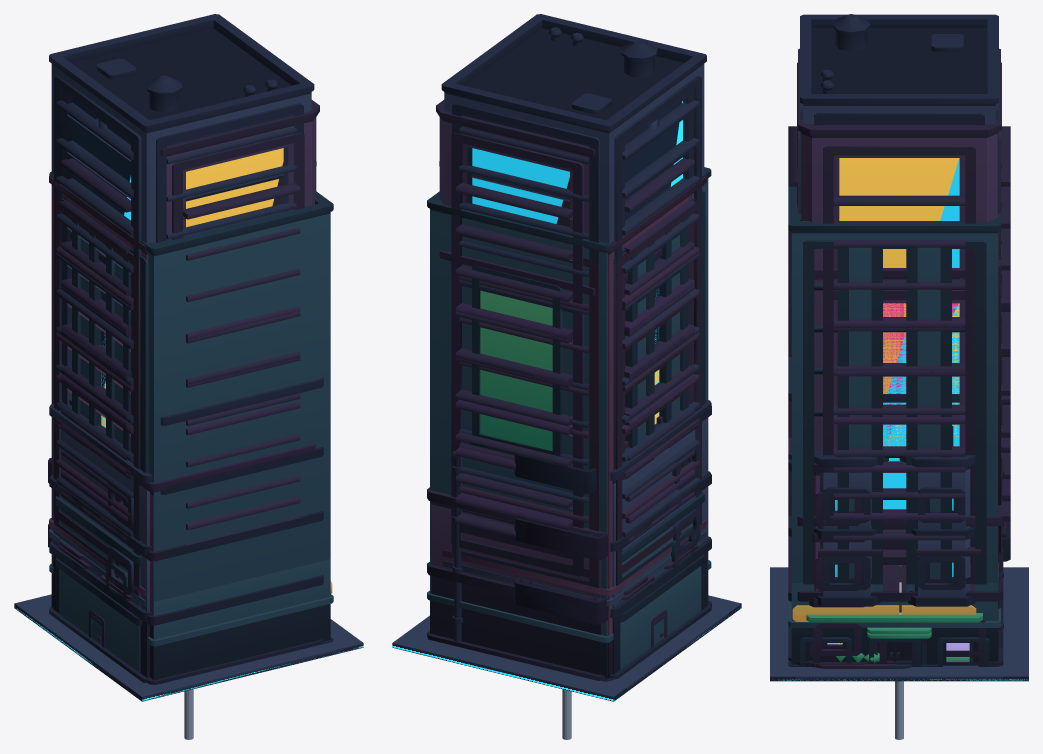
The model's file is ciudad.glb.
3 views of the same model, side by side, from view 1: azimuth 30°, elevation 25°; view 2: azimuth 150°, elevation 25°; view 3: azimuth 270°, elevation 25° (orthographic).
Parts seen in each view (by area): view 1: torre_e, torre_d, torre_b, torre_c, edificio_a, edificio_g, edificio_c, torre_a, edificio_b, calle_fin, calle_cebra, calle_sola (+2 smaller); view 2: torre_d, torre_e, torre_b, torre_c, edificio_d, torre_a, edificio_a, edificio_c, edificio_g, edificio_b, calle_sola, calle_fin (+3 smaller); view 3: torre_e, torre_b, torre_d, edificio_a, torre_a, edificio_d, edificio_b, calle_cebra, edificio_g, calle_sola, calle_fin, edificio_h (+5 smaller).
Boxes of the visible parts, x1,y1,x2,y2 form: torre_e: (49, 171, 333, 684); torre_d: (49, 14, 314, 647); torre_b: (61, 100, 319, 545); torre_c: (49, 175, 313, 647); edificio_a: (49, 404, 152, 682); edificio_g: (129, 377, 332, 681); edificio_c: (55, 496, 142, 672); torre_a: (61, 231, 300, 530); edificio_b: (48, 444, 315, 684); calle_fin: (14, 596, 328, 696); calle_cebra: (14, 594, 363, 701); calle_sola: (18, 594, 361, 695); torre_d: (441, 14, 706, 647); torre_e: (427, 167, 711, 681); torre_b: (436, 100, 694, 576); torre_c: (442, 175, 706, 680); edificio_d: (427, 423, 696, 680); torre_a: (439, 248, 694, 561); edificio_a: (452, 400, 711, 679); edificio_c: (618, 492, 704, 674); edificio_g: (514, 455, 596, 622); edificio_b: (524, 406, 711, 624); calle_sola: (393, 598, 718, 696); calle_fin: (604, 595, 740, 700); torre_e: (788, 186, 1002, 666); torre_b: (788, 48, 1010, 665); torre_d: (797, 14, 1001, 664); edificio_a: (814, 454, 1003, 648); torre_a: (788, 260, 1010, 663); edificio_d: (797, 500, 1003, 666); edificio_b: (788, 437, 1010, 667); calle_cebra: (770, 567, 1028, 681); edificio_g: (788, 357, 1010, 660); calle_sola: (770, 571, 1028, 681); calle_fin: (770, 567, 1022, 681); edificio_h: (806, 613, 982, 662).
Bounding box in the file's own units: 1 × 2.97 × 1.
Materials: 17 (9 with a texture image).
